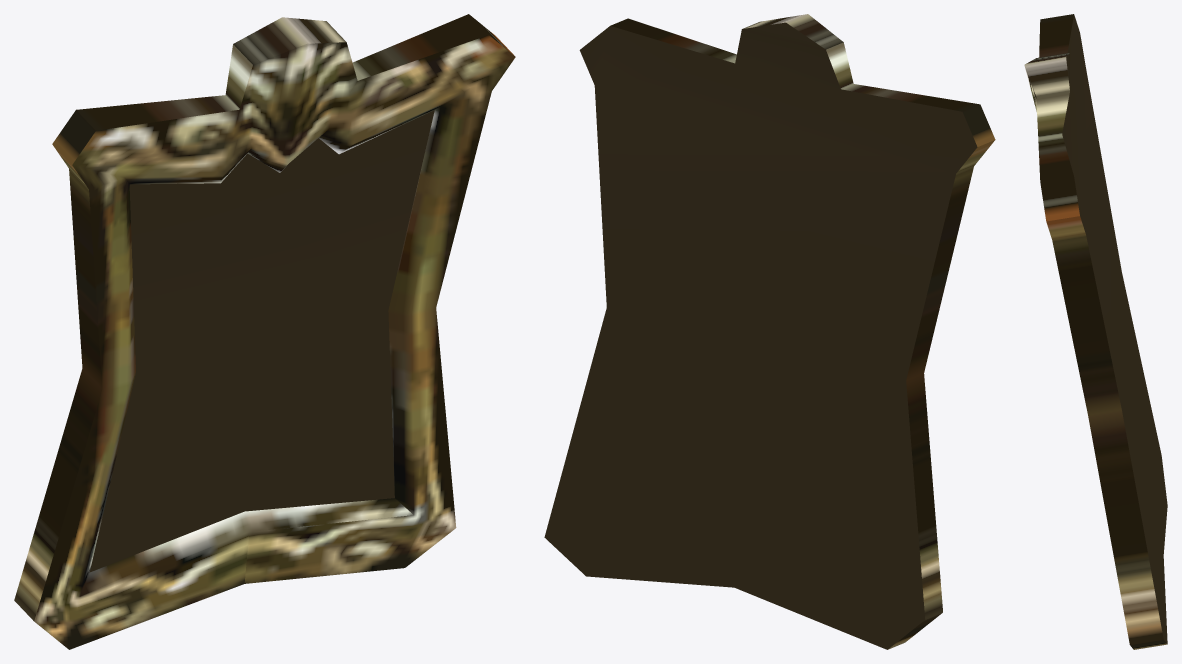
Rendered from mirror-2.glb.
3 views of the same model, side by side, from view 1: azimuth 30°, elevation 25°; view 2: azimuth 150°, elevation 25°; view 3: azimuth 270°, elevation 25° (orthographic). The views are drawn at different scales.
Parts seen in each view (by area): view 1: mirror; view 2: mirror; view 3: mirror.
Boxes of the visible parts, <box> form: mirror: <box>14,14,515,649</box>; mirror: <box>544,14,995,649</box>; mirror: <box>1024,14,1167,649</box>.
Bounding box in the file's own units: 218 × 291 × 72.
1 material, 1 textured.
